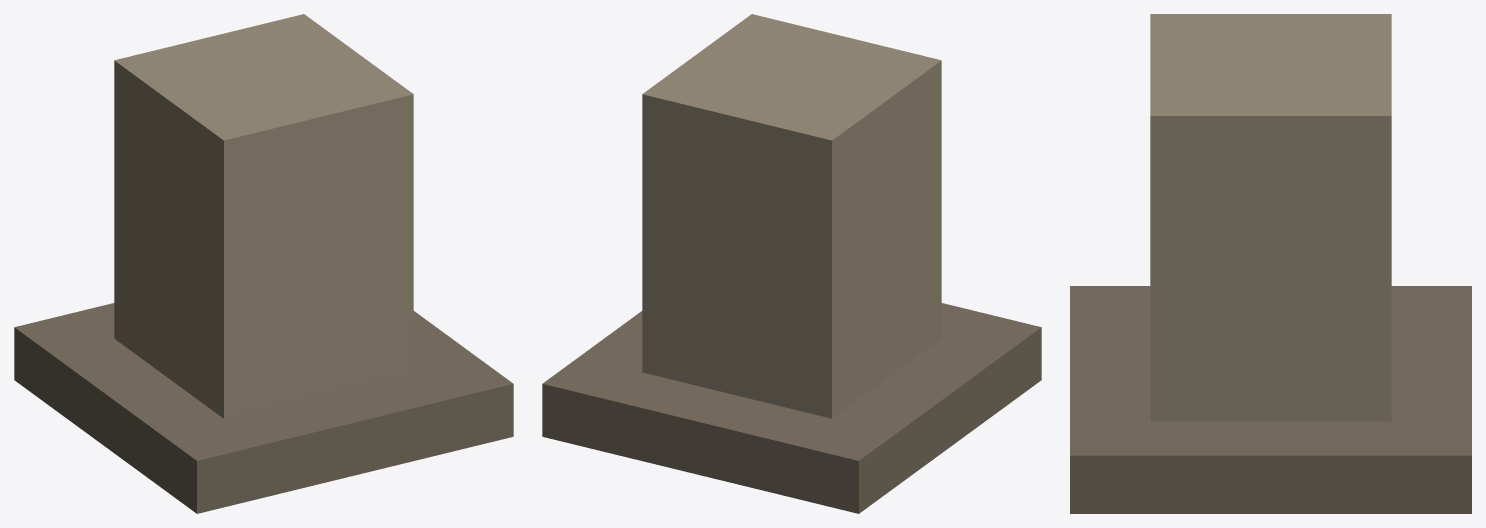
The model's file is FieldShrine.glb.
3 views of the same model, side by side, from view 1: azimuth 30°, elevation 25°; view 2: azimuth 150°, elevation 25°; view 3: azimuth 270°, elevation 25° (orthographic). The views are drawn at different scales.
Bounding box in the file's own units: 2.5 × 2.5 × 2.5.
